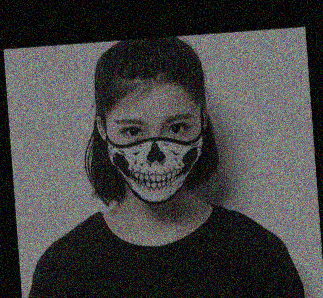with_mask: (105, 112, 205, 204)
